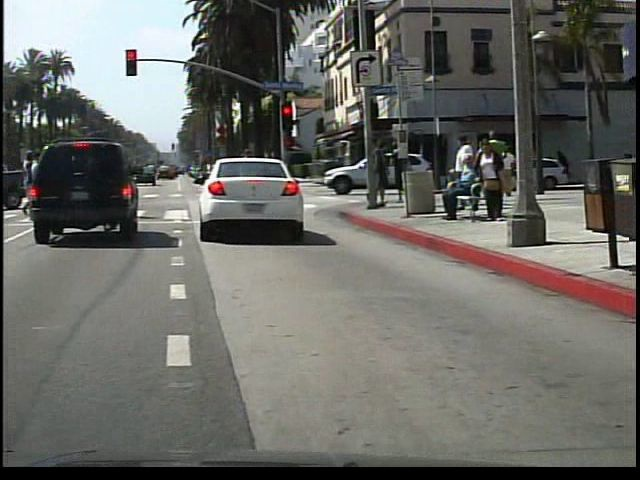person: (479, 136, 516, 228), (445, 156, 488, 221), (237, 142, 272, 217)
